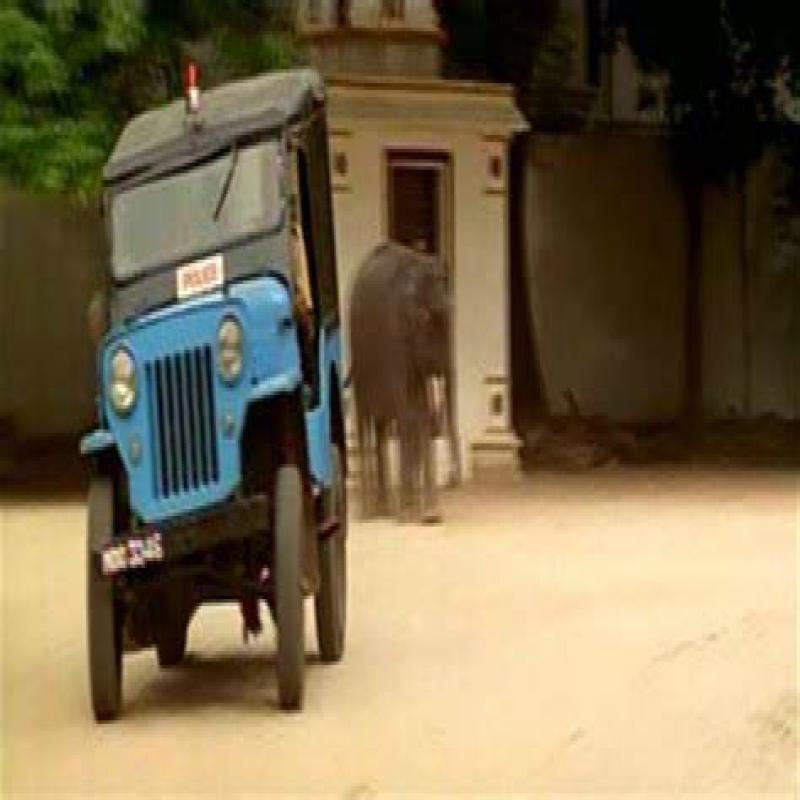AmbulanceSiren: (182, 61, 204, 98)
